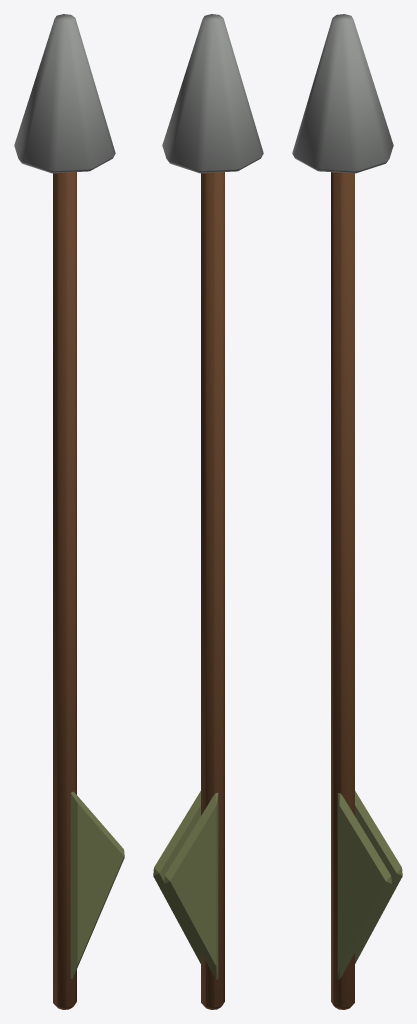
Rendered from projectile_arrow.glb.
The picture shows the model from 3 angles, left to right: view 1: azimuth 30°, elevation 25°; view 2: azimuth 210°, elevation 25°; view 3: azimuth 330°, elevation 25°; orthographic projection.
Visible parts, largest first — view 1: PROJECTILE_ARROW__shaft, PROJECTILE_ARROW__head, PROJECTILE_ARROW__fletching; view 2: PROJECTILE_ARROW__shaft, PROJECTILE_ARROW__head, PROJECTILE_ARROW__fletching.001, PROJECTILE_ARROW__fletching; view 3: PROJECTILE_ARROW__shaft, PROJECTILE_ARROW__head, PROJECTILE_ARROW__fletching, PROJECTILE_ARROW__fletching.001.
Boxes of the visible parts, x1,y1,x2,y2 form: PROJECTILE_ARROW__shaft: (53, 172, 76, 1009); PROJECTILE_ARROW__head: (14, 14, 115, 173); PROJECTILE_ARROW__fletching: (70, 791, 124, 978); PROJECTILE_ARROW__shaft: (201, 172, 224, 1009); PROJECTILE_ARROW__head: (162, 14, 263, 173); PROJECTILE_ARROW__fletching.001: (164, 793, 218, 979); PROJECTILE_ARROW__fletching: (153, 791, 200, 963); PROJECTILE_ARROW__shaft: (331, 172, 354, 1009); PROJECTILE_ARROW__head: (292, 14, 393, 173); PROJECTILE_ARROW__fletching: (337, 793, 391, 979); PROJECTILE_ARROW__fletching.001: (355, 791, 402, 963).
Bounding box in the file's own units: 0.1577 × 1.51 × 0.142.
